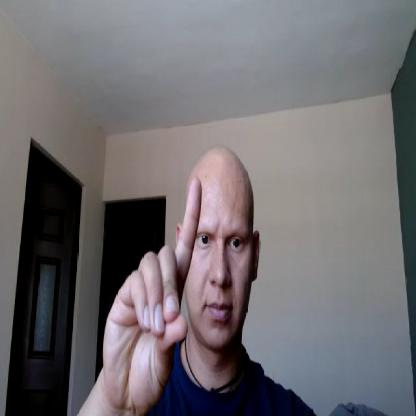D: (105, 175, 203, 408)
